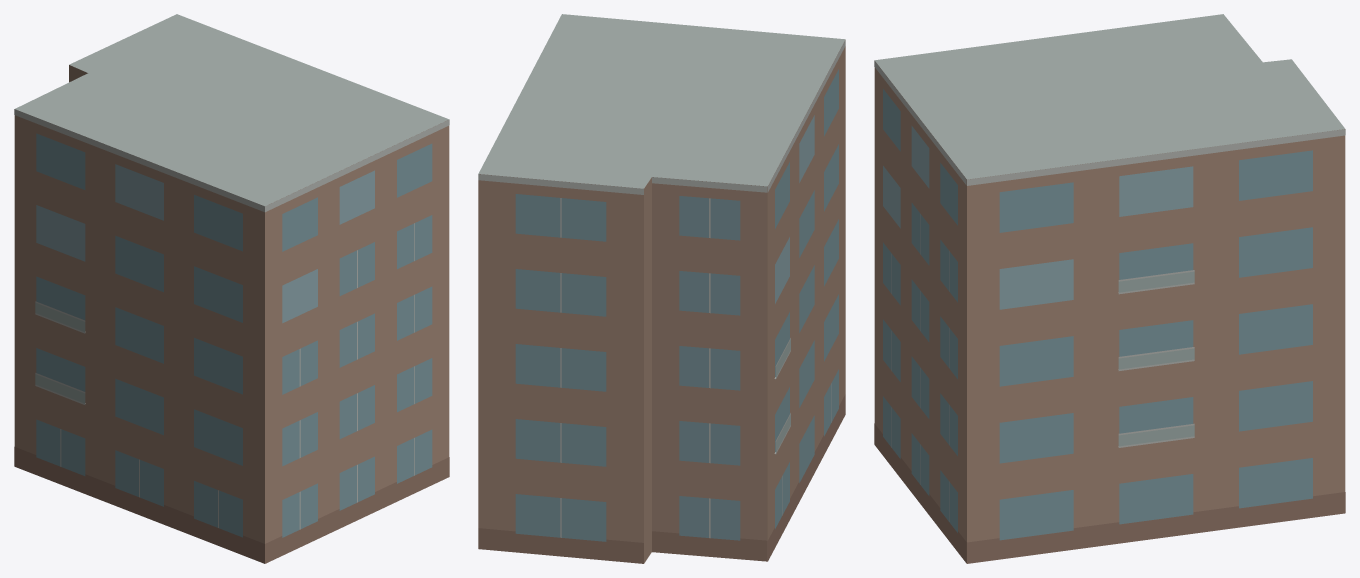
File: survey-upis-32838212.glb
3 renders of one model, left to right at view 1: azimuth 30°, elevation 25°; view 2: azimuth 150°, elevation 25°; view 3: azimuth 270°, elevation 25°, orthographic. The views are drawn at different scales.
Visible parts, largest first — view 1: survey-upis-32838212.tmp; view 2: survey-upis-32838212.tmp; view 3: survey-upis-32838212.tmp.
Part boxes in pixels (bbox=[...]): survey-upis-32838212.tmp: bbox=[14, 14, 449, 563]; survey-upis-32838212.tmp: bbox=[478, 14, 845, 563]; survey-upis-32838212.tmp: bbox=[874, 14, 1345, 563].
Size of the model in its own units: 13.4 by 14.5 by 16.11.
